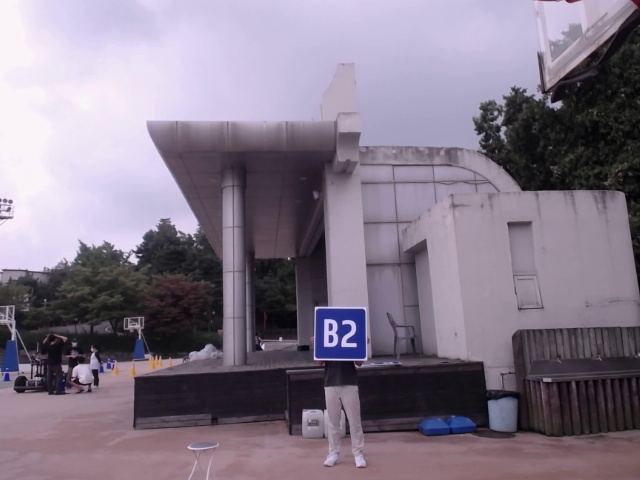delivery_b2: (316, 307, 367, 360)
